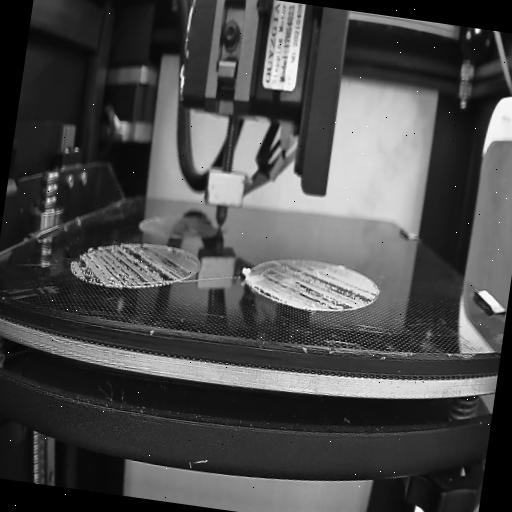under_extrusion: (251, 258, 379, 317), (70, 236, 198, 294)
